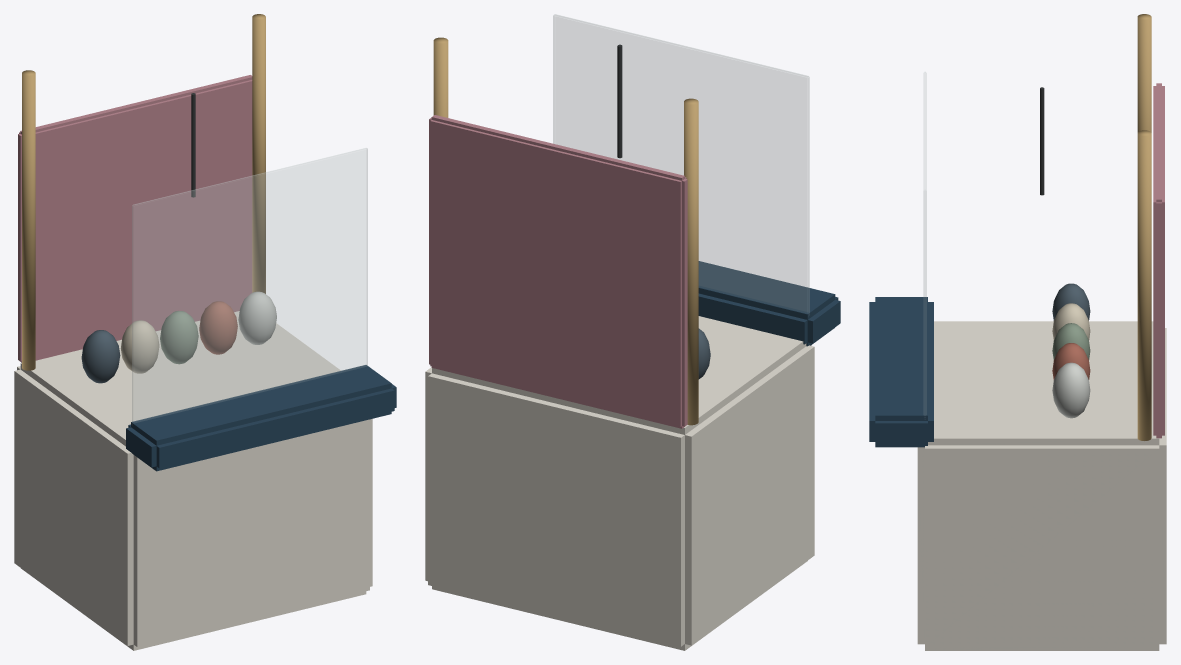
File: fixture_crane.glb
3 views of the same model, side by side, from view 1: azimuth 30°, elevation 25°; view 2: azimuth 150°, elevation 25°; view 3: azimuth 270°, elevation 25° (orthographic). The views are drawn at different scales.
Parts seen in each view (by area): view 1: fixture_crane_FY21_chalk_lacquer, fixture_crane_Shop_display_glass, fixture_crane_FY21_rose, fixture_crane_FY21_navy, fixture_crane_Satin_champagne, fixture_crane_Woven_0, fixture_crane_Woven_1, fixture_crane_Woven_3, fixture_crane_Woven_4, fixture_crane_Woven_2; view 2: fixture_crane_FY21_chalk_lacquer, fixture_crane_FY21_rose, fixture_crane_Shop_display_glass, fixture_crane_FY21_navy, fixture_crane_Satin_champagne, fixture_crane_Anodised_graphite; view 3: fixture_crane_FY21_chalk_lacquer, fixture_crane_FY21_navy, fixture_crane_Satin_champagne, fixture_crane_FY21_rose, fixture_crane_Woven_4, fixture_crane_Shop_display_glass, fixture_crane_Woven_1, fixture_crane_Woven_2, fixture_crane_Woven_0, fixture_crane_Woven_3, fixture_crane_Anodised_graphite.
Part boxes in pixels (left/top/right/bottom): fixture_crane_FY21_chalk_lacquer: left=14, top=311, right=372, bottom=650; fixture_crane_Shop_display_glass: left=132, top=148, right=367, bottom=422; fixture_crane_FY21_rose: left=18, top=75, right=252, bottom=362; fixture_crane_FY21_navy: left=126, top=365, right=396, bottom=471; fixture_crane_Satin_champagne: left=22, top=14, right=265, bottom=370; fixture_crane_Woven_0: left=81, top=330, right=120, bottom=383; fixture_crane_Woven_1: left=120, top=320, right=159, bottom=373; fixture_crane_Woven_3: left=199, top=301, right=237, bottom=354; fixture_crane_Woven_4: left=238, top=291, right=276, bottom=344; fixture_crane_Woven_2: left=160, top=311, right=198, bottom=364; fixture_crane_FY21_chalk_lacquer: left=425, top=316, right=814, bottom=650; fixture_crane_FY21_rose: left=429, top=115, right=687, bottom=428; fixture_crane_Shop_display_glass: left=553, top=14, right=809, bottom=312; fixture_crane_FY21_navy: left=698, top=261, right=840, bottom=346; fixture_crane_Satin_champagne: left=433, top=37, right=698, bottom=425; fixture_crane_Anodised_graphite: left=617, top=44, right=622, bottom=158; fixture_crane_FY21_chalk_lacquer: left=917, top=321, right=1166, bottom=650; fixture_crane_FY21_navy: left=869, top=297, right=933, bottom=447; fixture_crane_Satin_champagne: left=1137, top=14, right=1151, bottom=440; fixture_crane_FY21_rose: left=1153, top=83, right=1164, bottom=438; fixture_crane_Woven_4: left=1052, top=362, right=1090, bottom=418; fixture_crane_Shop_display_glass: left=923, top=72, right=926, bottom=415; fixture_crane_Woven_1: left=1052, top=303, right=1090, bottom=340; fixture_crane_Woven_2: left=1052, top=323, right=1090, bottom=360; fixture_crane_Woven_0: left=1052, top=283, right=1090, bottom=320; fixture_crane_Woven_3: left=1052, top=343, right=1090, bottom=379; fixture_crane_Anodised_graphite: left=1040, top=87, right=1044, bottom=195.
Size of the model in its own units: 1 by 1.95 by 1.02.
